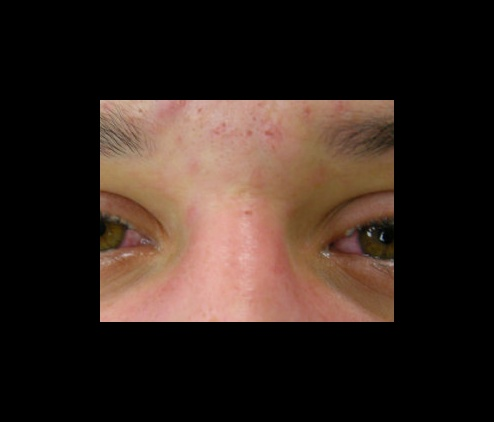SJS-TEN: (97, 98, 396, 325)
